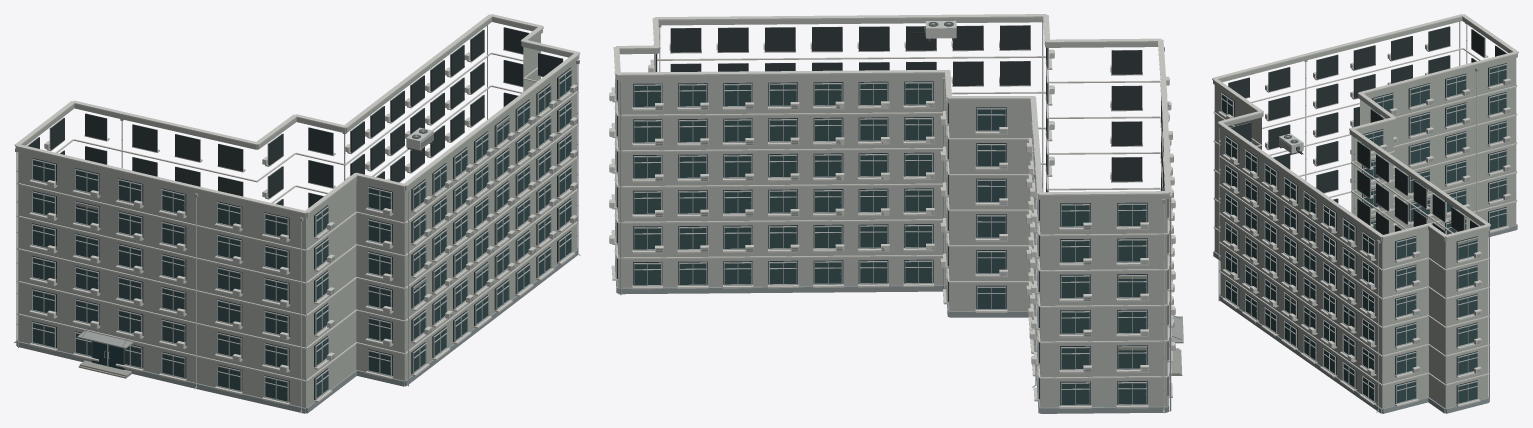
The model's file is osm_way_225255196.glb.
The picture shows the model from 3 angles, left to right: view 1: azimuth 30°, elevation 25°; view 2: azimuth 150°, elevation 25°; view 3: azimuth 270°, elevation 25°; orthographic projection. The views are drawn at different scales.
Parts seen in each view (by area): view 1: Windows and facade details | 41, Architecture | 41, Roof services | 41, EXTERIOR::osm_way_225255196::rainwater and roof service deta, EXTERIOR::osm_way_225255196::inferred entry doors canopy and; view 2: Architecture | 41, Windows and facade details | 41, Roof services | 41, EXTERIOR::osm_way_225255196::rainwater and roof service deta, EXTERIOR::osm_way_225255196::inferred entry doors canopy and; view 3: Windows and facade details | 41, Architecture | 41, Roof services | 41, EXTERIOR::osm_way_225255196::rainwater and roof service deta.
Boxes of the visible parts, <box> form: Windows and facade details | 41: <box>18,25,577,405</box>; Architecture | 41: <box>15,17,579,413</box>; Roof services | 41: <box>14,14,580,214</box>; EXTERIOR::osm_way_225255196::rainwater and roof service deta: <box>14,60,580,413</box>; EXTERIOR::osm_way_225255196::inferred entry doors canopy and: <box>77,327,133,378</box>; Architecture | 41: <box>616,17,1169,413</box>; Windows and facade details | 41: <box>609,22,1175,411</box>; Roof services | 41: <box>613,14,1170,195</box>; EXTERIOR::osm_way_225255196::rainwater and roof service deta: <box>658,20,1168,413</box>; EXTERIOR::osm_way_225255196::inferred entry doors canopy and: <box>1169,315,1183,375</box>; Windows and facade details | 41: <box>1218,21,1510,406</box>; Architecture | 41: <box>1213,17,1517,413</box>; Roof services | 41: <box>1212,14,1518,237</box>; EXTERIOR::osm_way_225255196::rainwater and roof service deta: <box>1279,23,1478,412</box>.
Size of the model in its own units: 53.26 by 20.58 by 30.94.
